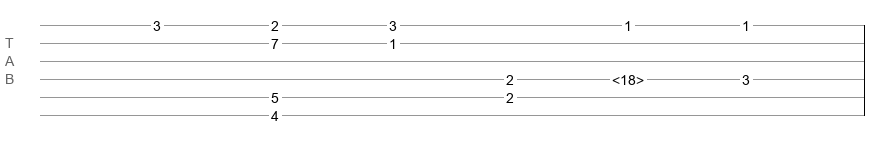1: (389, 36, 397, 46), (624, 18, 632, 28), (742, 18, 750, 28)
2: (271, 18, 279, 28), (506, 90, 514, 100), (506, 72, 514, 82)
3: (153, 18, 161, 28), (389, 18, 397, 28), (742, 72, 750, 82)
4: (271, 108, 279, 118)
5: (271, 90, 279, 100)
7: (271, 36, 279, 46)
harmonic: (612, 72, 644, 82)
